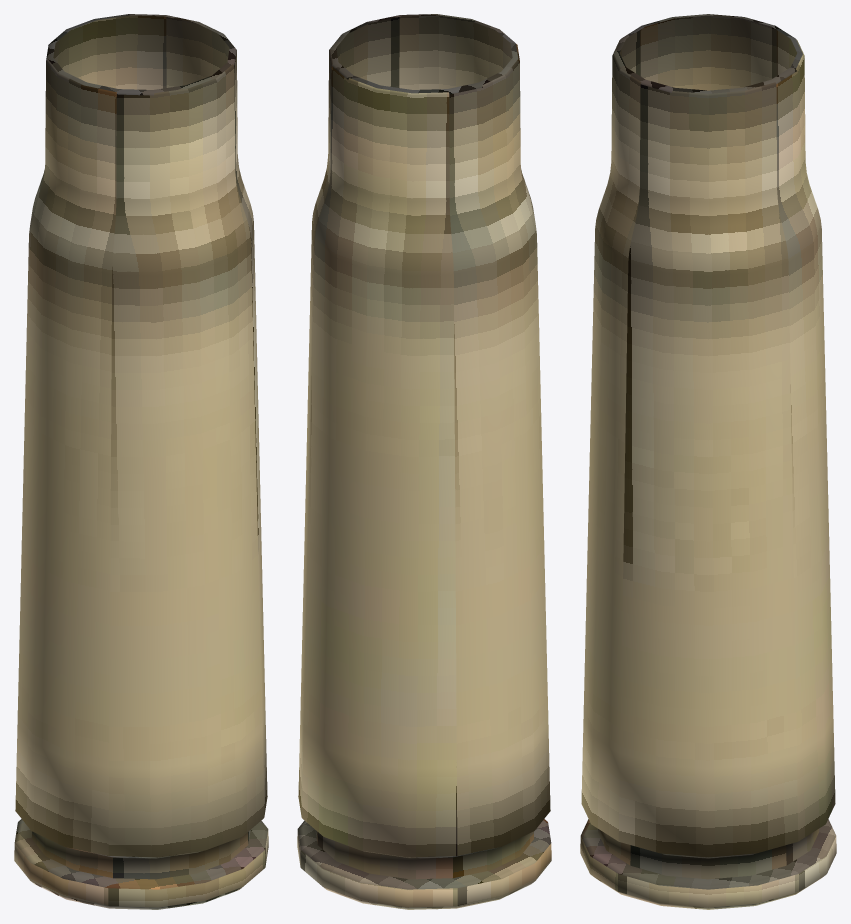
Rendered from casing_rifle.glb.
3 renders of one model, left to right at view 1: azimuth 30°, elevation 25°; view 2: azimuth 150°, elevation 25°; view 3: azimuth 270°, elevation 25°, orthographic.
Parts seen in each view (by area): view 1: Object_6; view 2: Object_6; view 3: Object_6.
Part boxes in pixels (bbox=[...]): Object_6: bbox=[14, 14, 268, 909]; Object_6: bbox=[297, 14, 551, 909]; Object_6: bbox=[580, 14, 836, 909].
Bounding box in the file's own units: 0.0146 × 0.051 × 0.0146.
1 material, 1 textured.
